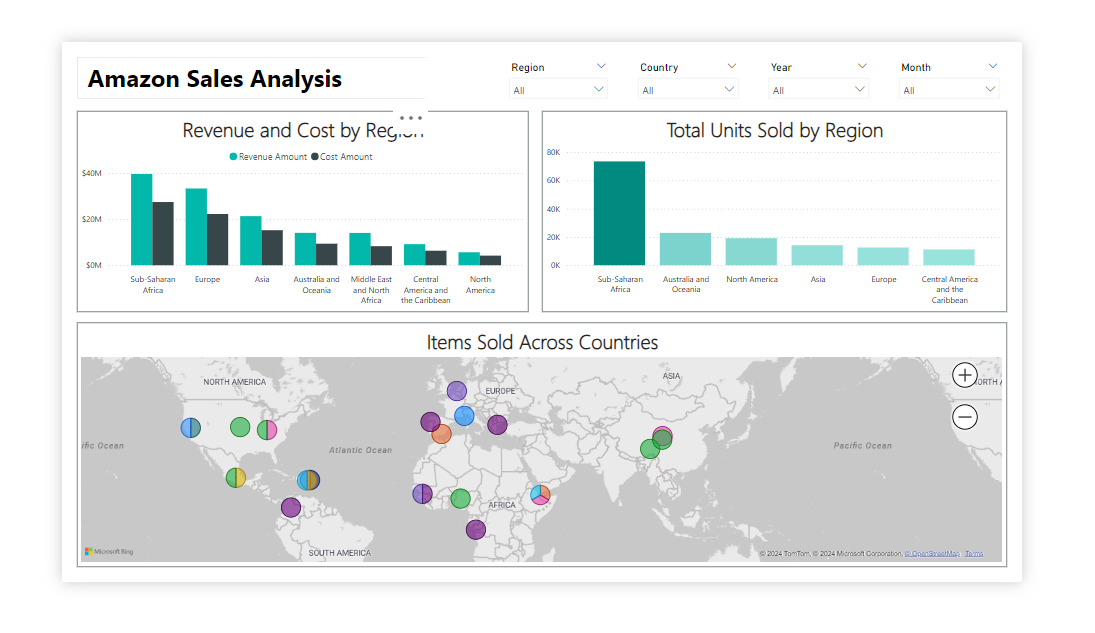

The dashboard page shown, as its layout file describes it:
{"tool":"powerbi","page":{"name":"Geographical Analysis","canvas":[1280,720],"ordinal":1},"visuals":[{"type":"columnChart","fields":{"Category":["Sales Data.Region"],"Y":["Key Measures.Total Units Sold"]},"box":[640,92,620,268],"z":0},{"type":"shape","box":[20,20,470,56],"z":1000},{"type":"lineClusteredColumnComboChart","title":"Revenue and Cost by Region","fields":{"Category":["Sales Data.Region"],"Y":["Key Measures.Revenue Amount","Key Measures.Cost Amount"]},"box":[20,92,602,268],"z":1000},{"type":"textbox","box":[20,20,370,56],"z":2000},{"type":"map","title":"Items Sold Across Countries","fields":{"Category":["Sales Data.Country"],"Series":["Sales Data.Item Type"]},"box":[20,374,1240,326],"z":2000},{"type":"slicer","fields":{"Values":["Amazon Sales Dataset - Clean.Region"]},"box":[586,20,152,56],"z":3000},{"type":"slicer","fields":{"Values":["Amazon Sales Dataset - Clean.Country"]},"box":[758,20,154,56],"z":4000},{"type":"slicer","fields":{"Values":["Amazon Sales Dataset - Clean.Order Date.Variation.Date Hierarchy.Year"]},"box":[932,20,154,56],"z":5000},{"type":"slicer","fields":{"Values":["Amazon Sales Dataset - Clean.Order Date.Variation.Date Hierarchy.Month"]},"box":[1106,20,154,56],"z":6000},{"type":"shape","box":[452,20,76,56],"z":13000}]}

Visuals, with their boxes in screenshot pixels (x1, y1, x2, y2), scaled from the page's 1280x720 canvas onto the 1095x633 screenshot:
columnChart - Sales Data.Region x Key Measures.Total Units Sold: bbox=[548, 81, 1078, 316]
shape: bbox=[17, 18, 419, 67]
"Revenue and Cost by Region" lineClusteredColumnComboChart: bbox=[17, 81, 532, 316]
textbox: bbox=[17, 18, 334, 67]
"Items Sold Across Countries" map: bbox=[17, 329, 1078, 615]
slicer - Amazon Sales Dataset - Clean.Region: bbox=[501, 18, 631, 67]
slicer - Amazon Sales Dataset - Clean.Country: bbox=[648, 18, 780, 67]
slicer - Amazon Sales Dataset - Clean.Order Date.Variation.Date Hierarchy.Year: bbox=[797, 18, 929, 67]
slicer - Amazon Sales Dataset - Clean.Order Date.Variation.Date Hierarchy.Month: bbox=[946, 18, 1078, 67]
shape: bbox=[387, 18, 452, 67]
